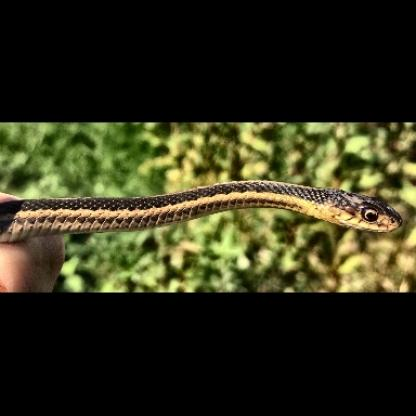Snake: (0, 169, 408, 251)
